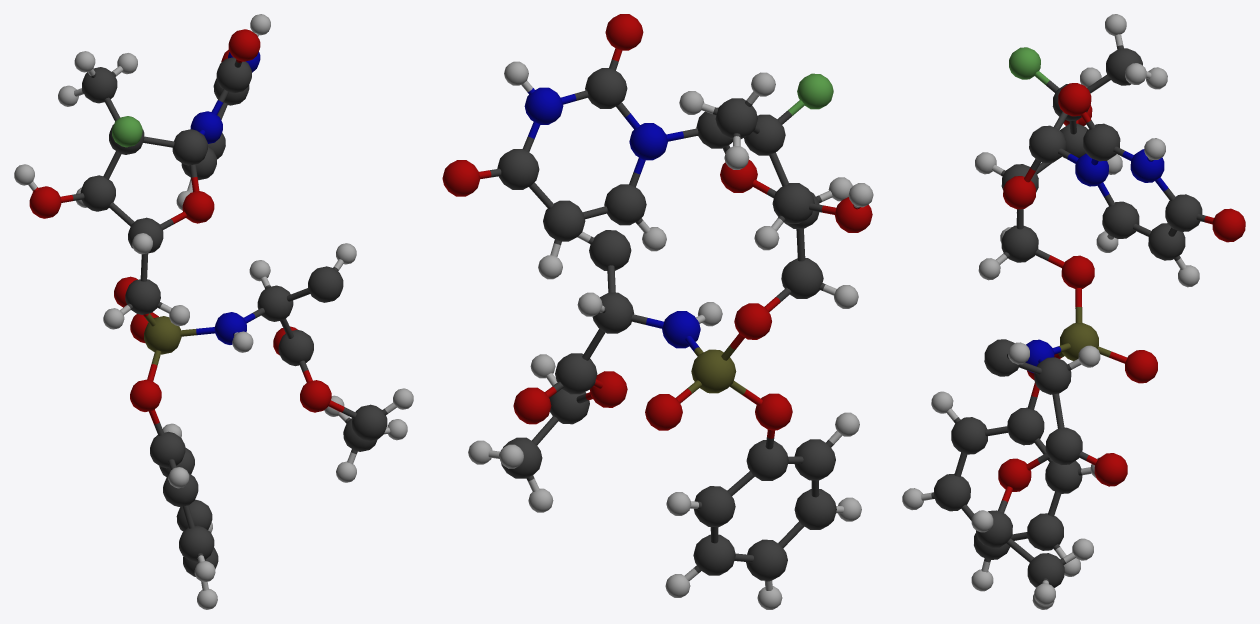
File: form2.obj
The picture shows the model from 3 angles, left to right: view 1: azimuth 30°, elevation 25°; view 2: azimuth 150°, elevation 25°; view 3: azimuth 270°, elevation 25°; orthographic projection. The views are drawn at different scales.
Visible parts, largest first — view 1: vmd_mol1_rep0; view 2: vmd_mol1_rep0; view 3: vmd_mol1_rep0.
Part boxes in pixels (x1,y1,x2,y2): vmd_mol1_rep0: (14,14,413,609); vmd_mol1_rep0: (442,14,873,609); vmd_mol1_rep0: (902,14,1245,609).
Bounding box in the file's own units: 1.11 × 1.51 × 0.8603.
